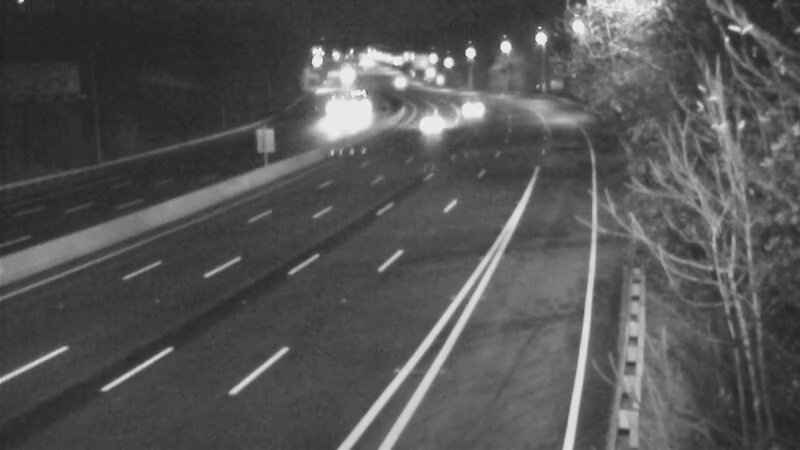vehicle: (372, 57, 422, 107), (444, 86, 494, 136), (409, 101, 459, 151), (309, 91, 359, 141), (330, 83, 380, 133)
